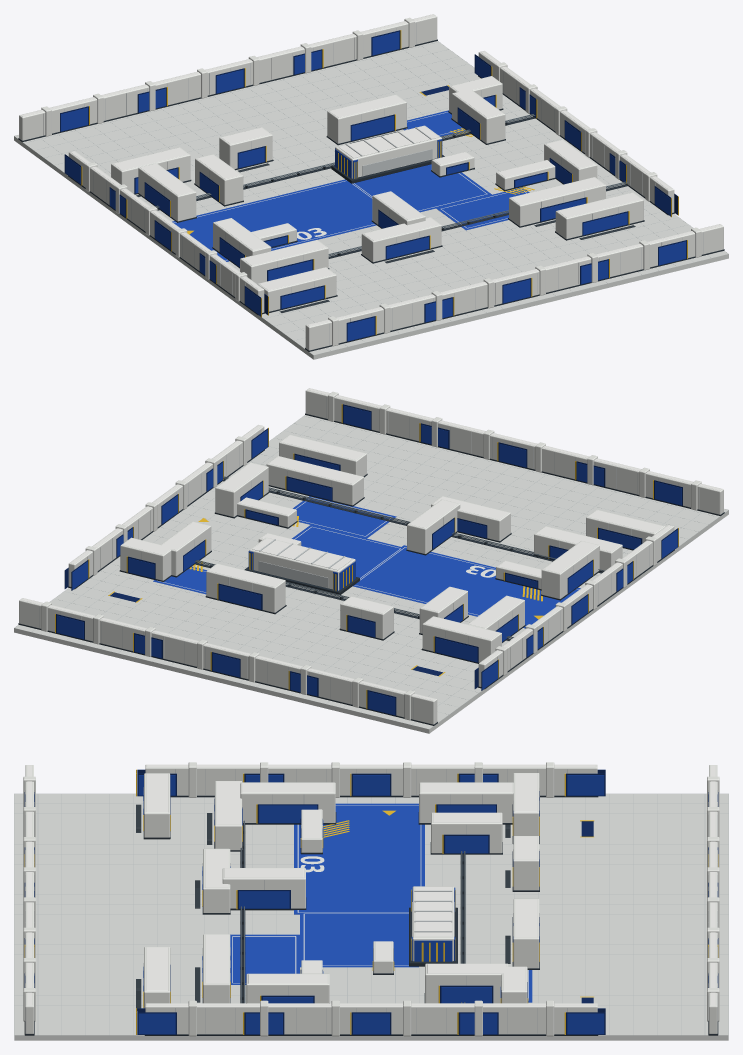
The model's file is arena.glb.
3 views of the same model, one above another, from view 1: azimuth 30°, elevation 25°; view 2: azimuth 150°, elevation 25°; view 3: azimuth 270°, elevation 25° (orthographic). The views are drawn at different scales.
Parts seen in each view (by area): view 1: ArenaProps, ArenaFloor; view 2: ArenaProps, ArenaFloor; view 3: ArenaFloor, ArenaProps.
Boxes of the visible parts, <box> form: ArenaProps: <box>18,14,724,351</box>; ArenaFloor: <box>14,41,728,359</box>; ArenaProps: <box>18,388,724,725</box>; ArenaFloor: <box>14,415,728,733</box>; ArenaFloor: <box>14,793,728,1040</box>; ArenaProps: <box>23,762,719,1036</box>.
Size of the model in its own units: 48.45 by 3.41 by 60.03.
